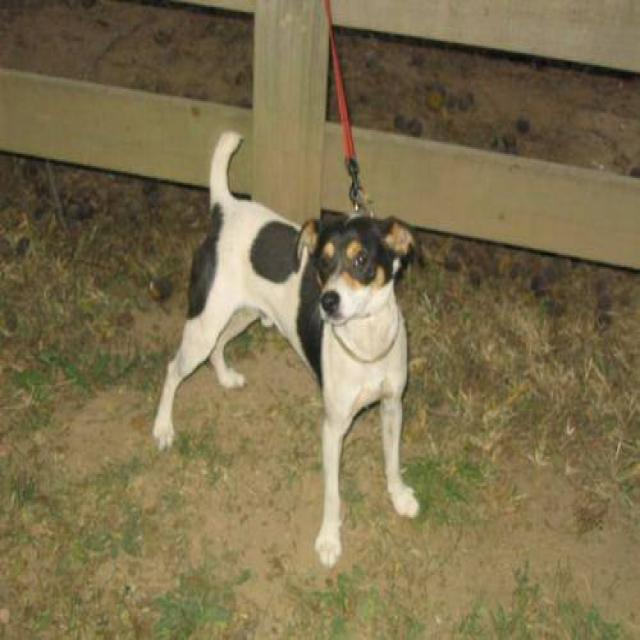dog: (153, 132, 420, 570)
